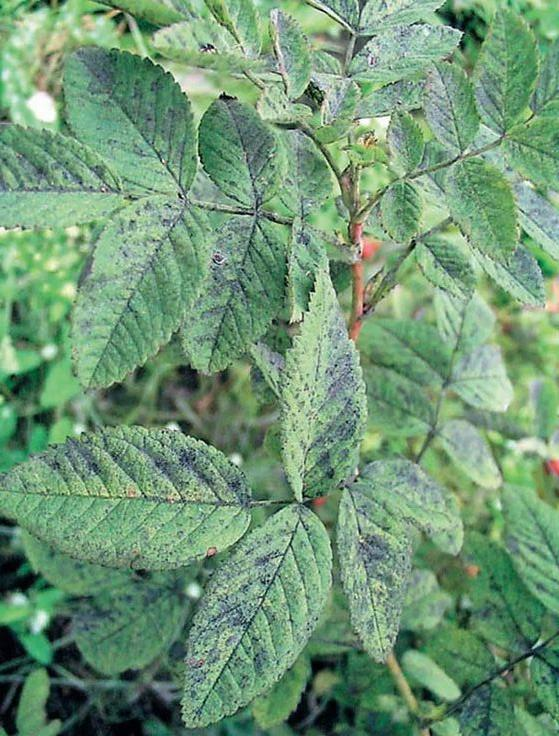soot dew: (189, 535, 293, 706), (189, 213, 259, 343), (309, 317, 365, 473), (150, 446, 251, 505), (362, 530, 411, 643), (229, 92, 275, 207), (1, 157, 118, 192), (73, 243, 107, 349), (37, 433, 101, 482), (80, 50, 119, 100)
